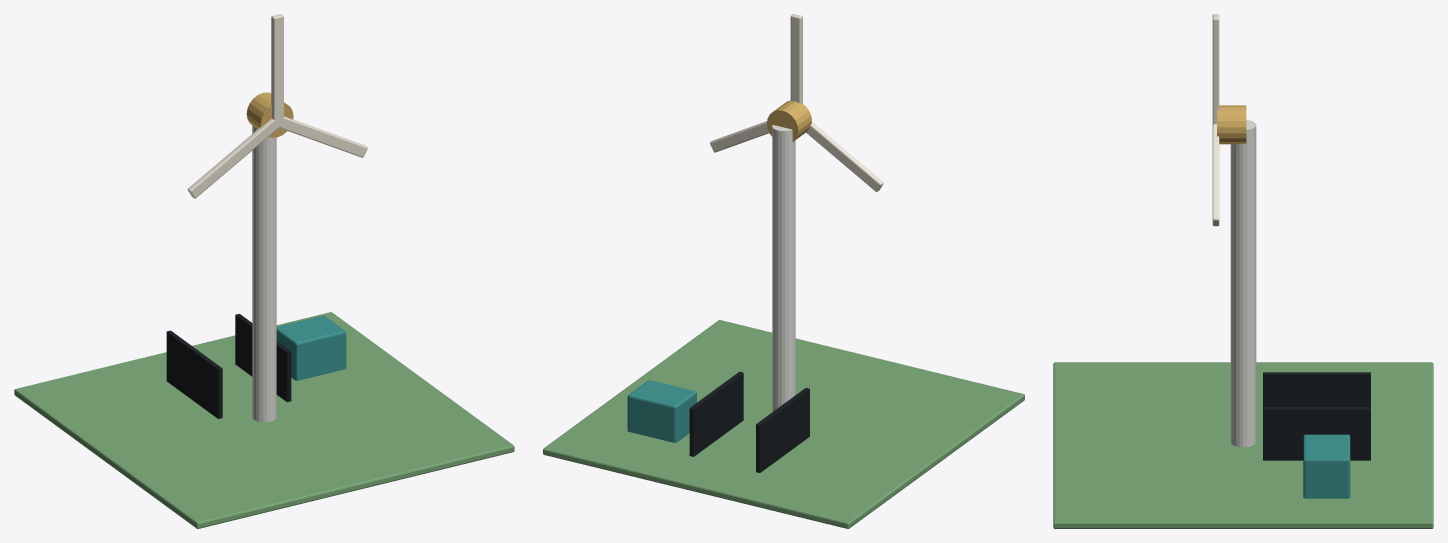
The model's file is UTIL_WIND_2x2_001.glb.
The picture shows the model from 3 angles, left to right: view 1: azimuth 30°, elevation 25°; view 2: azimuth 150°, elevation 25°; view 3: azimuth 270°, elevation 25°; orthographic projection. The views are drawn at different scales.
Parts seen in each view (by area): view 1: UTIL_WIND_2x2_001_Visual; view 2: UTIL_WIND_2x2_001_Visual; view 3: UTIL_WIND_2x2_001_Visual.
Part boxes in pixels (box(x1,y1,x2,y2)): UTIL_WIND_2x2_001_Visual: box(14, 14, 514, 528); UTIL_WIND_2x2_001_Visual: box(543, 14, 1024, 528); UTIL_WIND_2x2_001_Visual: box(1053, 14, 1433, 528).
Size of what is drawn, in the model's own units: 3.88 by 4.88 by 3.88.
